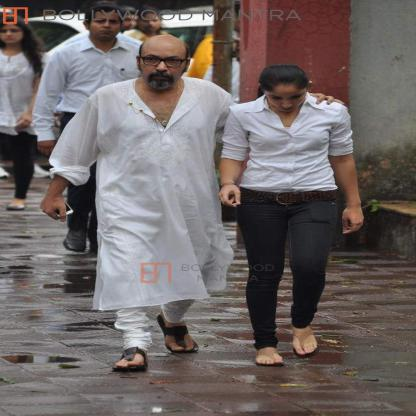face: (141, 48, 187, 87), (267, 91, 308, 113), (90, 14, 122, 39), (1, 25, 24, 44), (141, 15, 160, 32), (122, 16, 139, 32)
